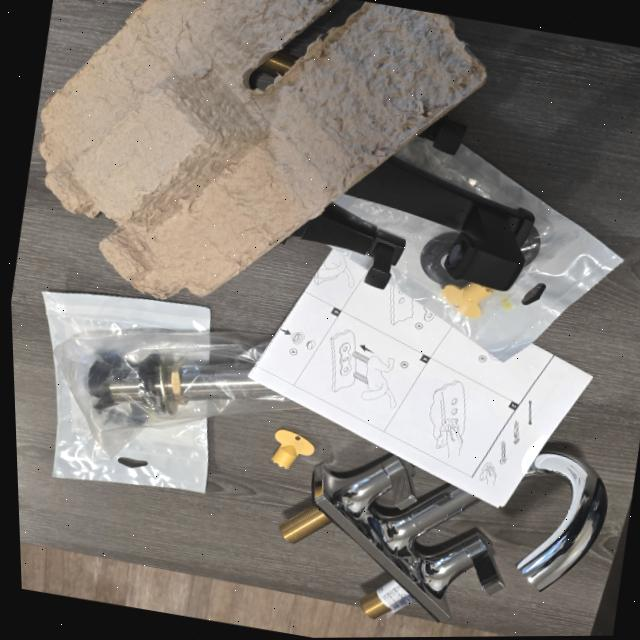10o: (279, 454, 504, 621), (515, 449, 606, 590)
11o: (52, 328, 298, 457)
12o: (333, 137, 621, 360)
13o: (52, 362, 207, 491), (42, 290, 209, 347)
14: (271, 428, 313, 467)
8: (249, 249, 590, 504)
9o: (345, 159, 532, 289), (292, 202, 404, 288), (422, 117, 465, 154)
